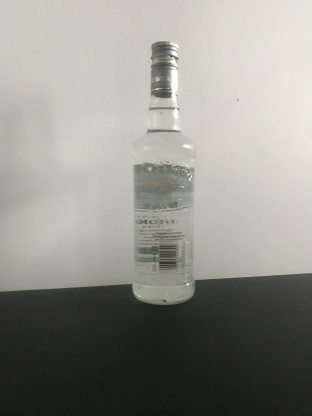nakretka: (149, 39, 180, 98)
